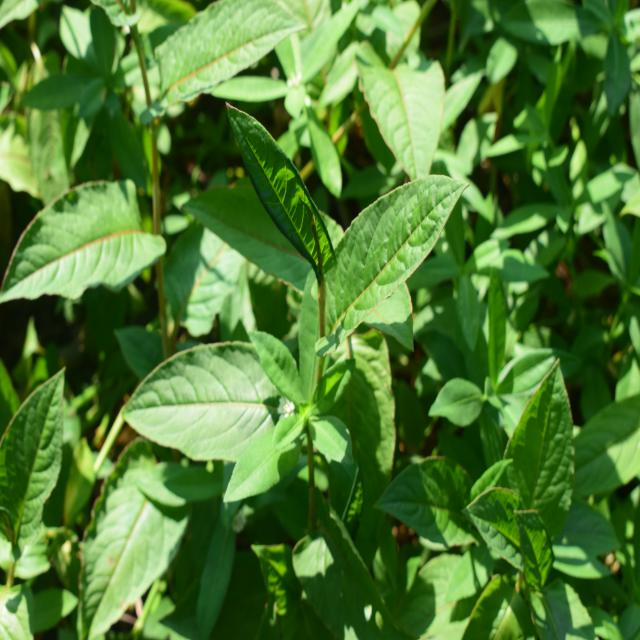Chinese_knotweed: (198, 103, 430, 370)
